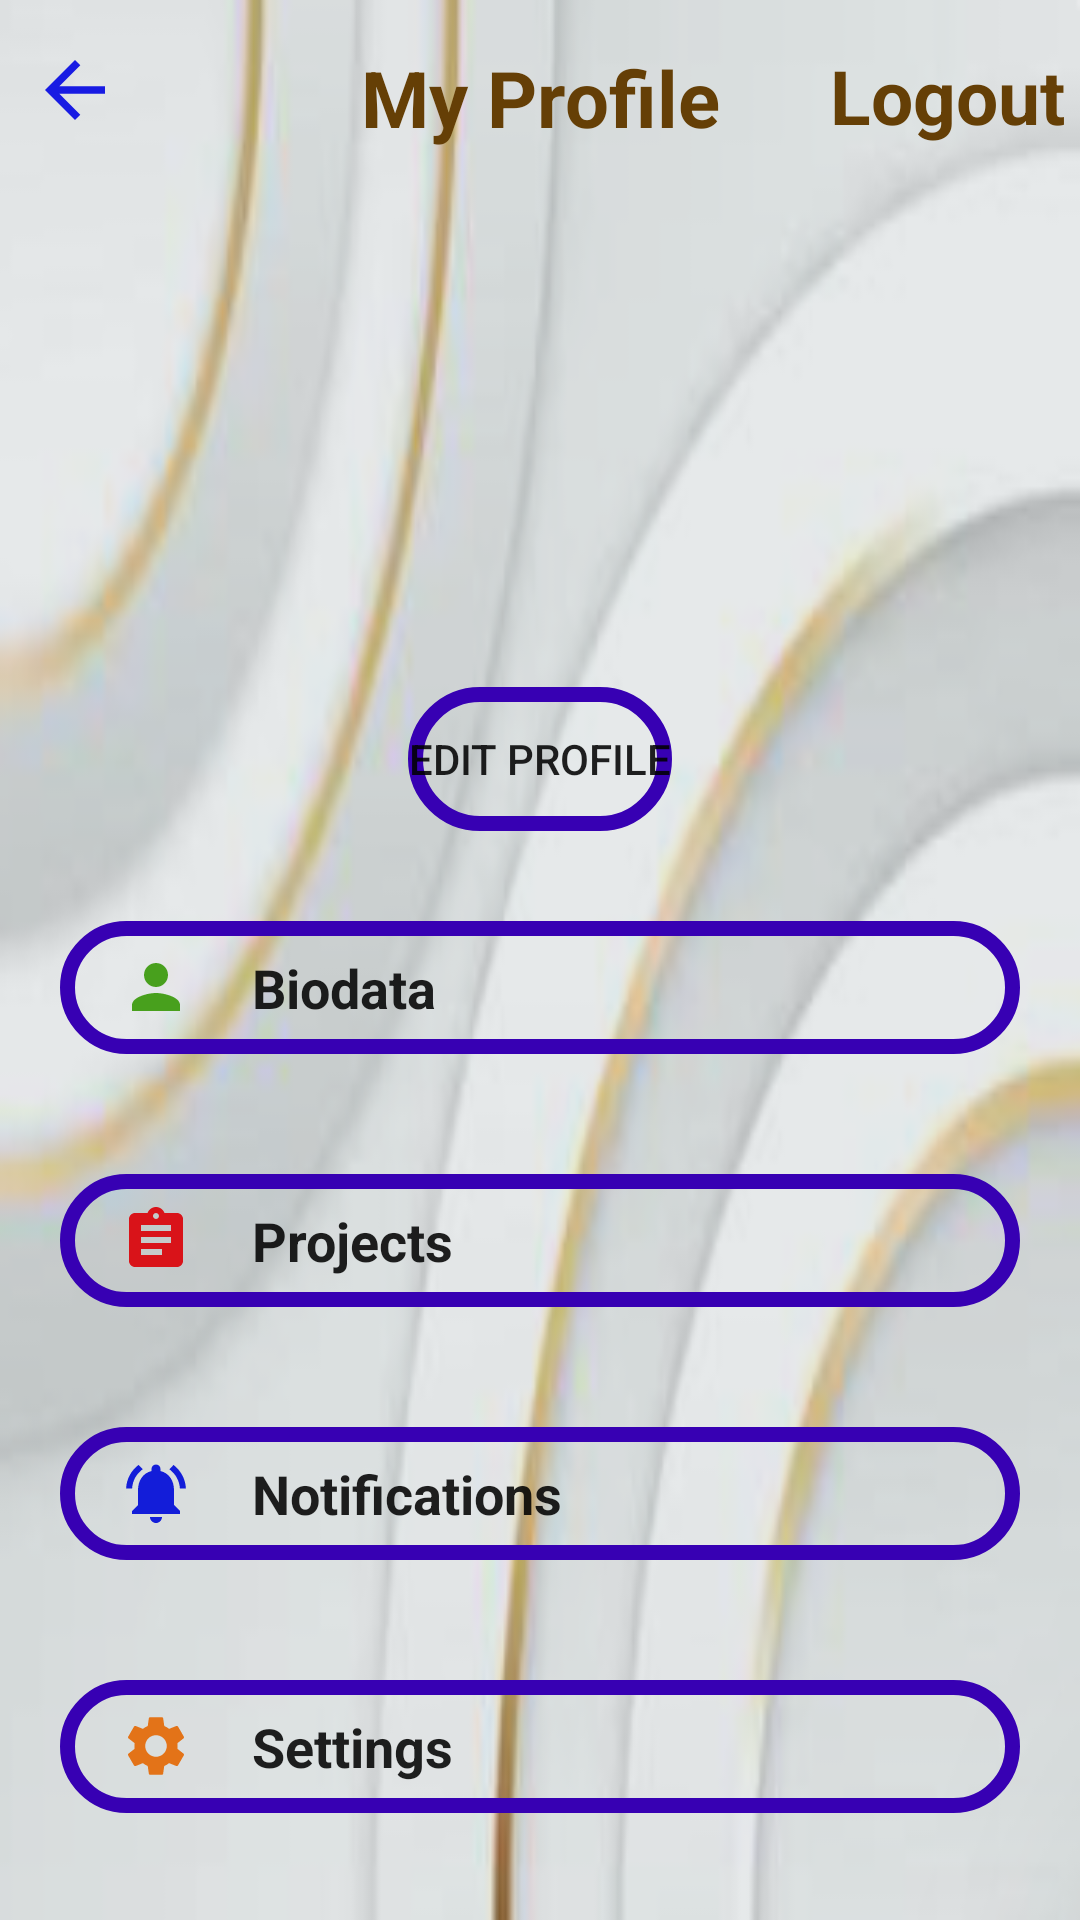

Locate icon controls on the screen. Image size 1080*1920, boxes as (x1, y1, x2, y2).
arrow back: (45, 60, 105, 120)
